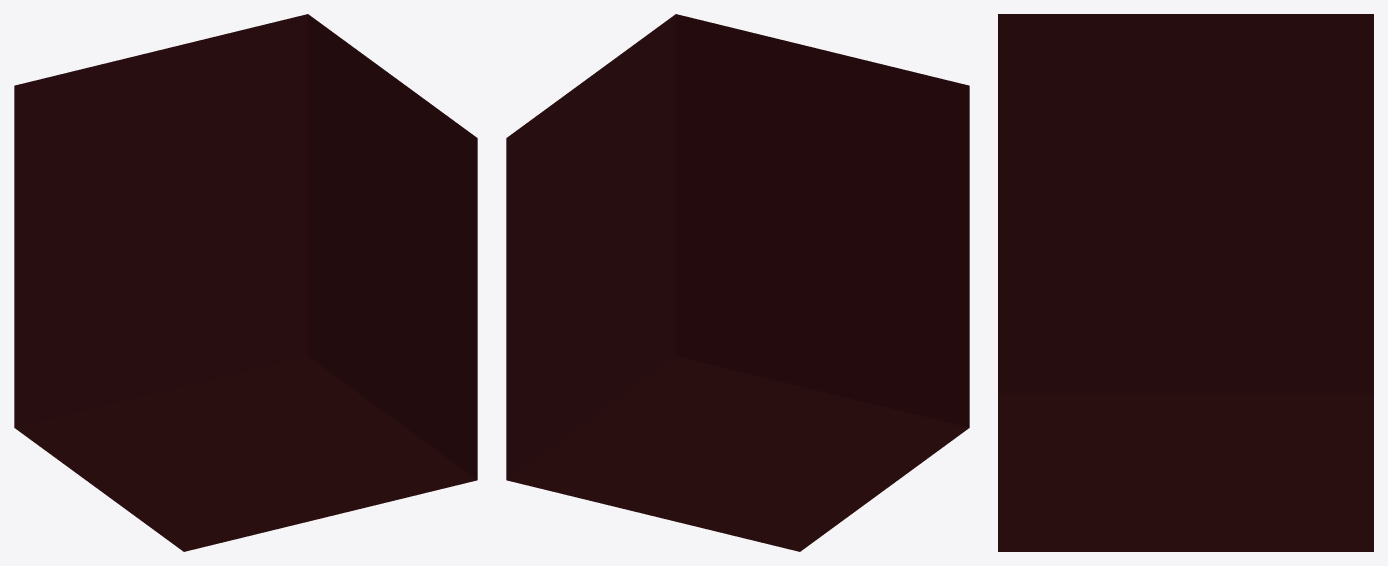
The model's file is EndCeuLimbo.glb.
3 views of the same model, side by side, from view 1: azimuth 30°, elevation 25°; view 2: azimuth 150°, elevation 25°; view 3: azimuth 270°, elevation 25° (orthographic). The views are drawn at different scales.
Visible parts, largest first — view 1: Setor_0, Setor_1; view 2: Setor_0, Setor_1; view 3: Setor_-2, Setor_0.
Boxes of the visible parts, x1,y1,x2,y2 form: Setor_0: (14,14,476,551); Setor_1: (308,14,477,479); Setor_0: (507,14,969,551); Setor_1: (506,14,675,479); Setor_-2: (998,14,1373,393); Setor_0: (998,393,1373,551).
Size of the model in its own units: 88 by 98 by 88.
1 material, 1 textured.
